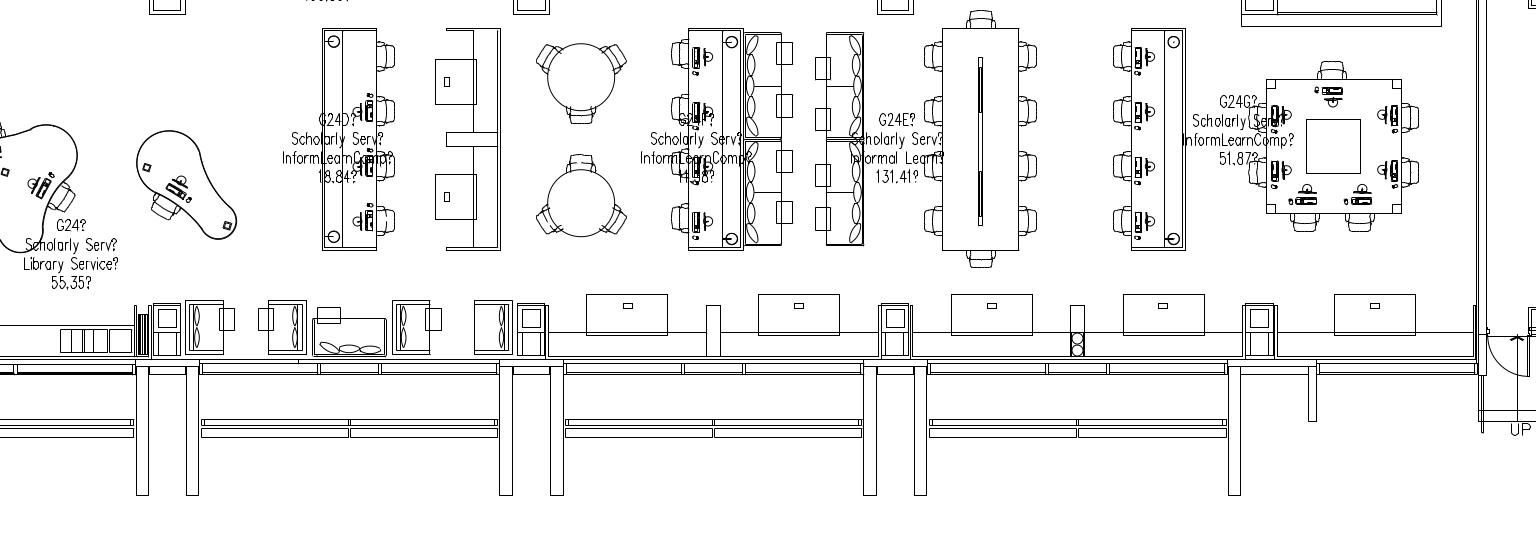door: (1487, 334, 1536, 386)
